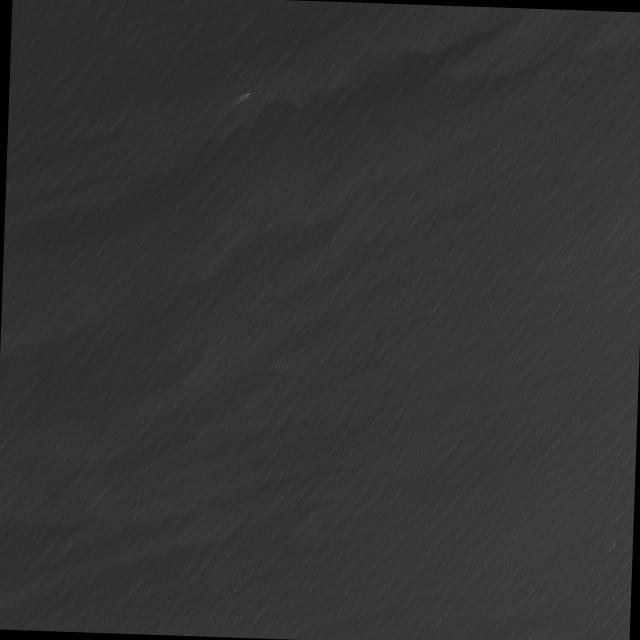ship: (245, 91, 249, 95)
